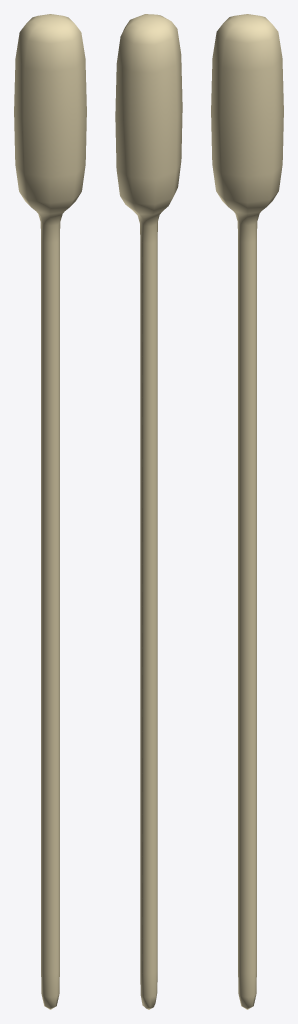
File: Reed.fbx
3 renders of one model, left to right at view 1: azimuth 90°, elevation 25°; view 2: azimuth 150°, elevation 25°; view 3: azimuth 270°, elevation 25°, orthographic.
Parts seen in each view (by area): view 1: Weed; view 2: Weed; view 3: Weed.
Boxes of the visible parts, x1,y1,x2,y2 form: Weed: [14, 14, 86, 1009]; Weed: [115, 14, 182, 1009]; Weed: [211, 14, 283, 1009].
Size of the model in its own units: 0.0188 by 0.3182 by 0.0212.
